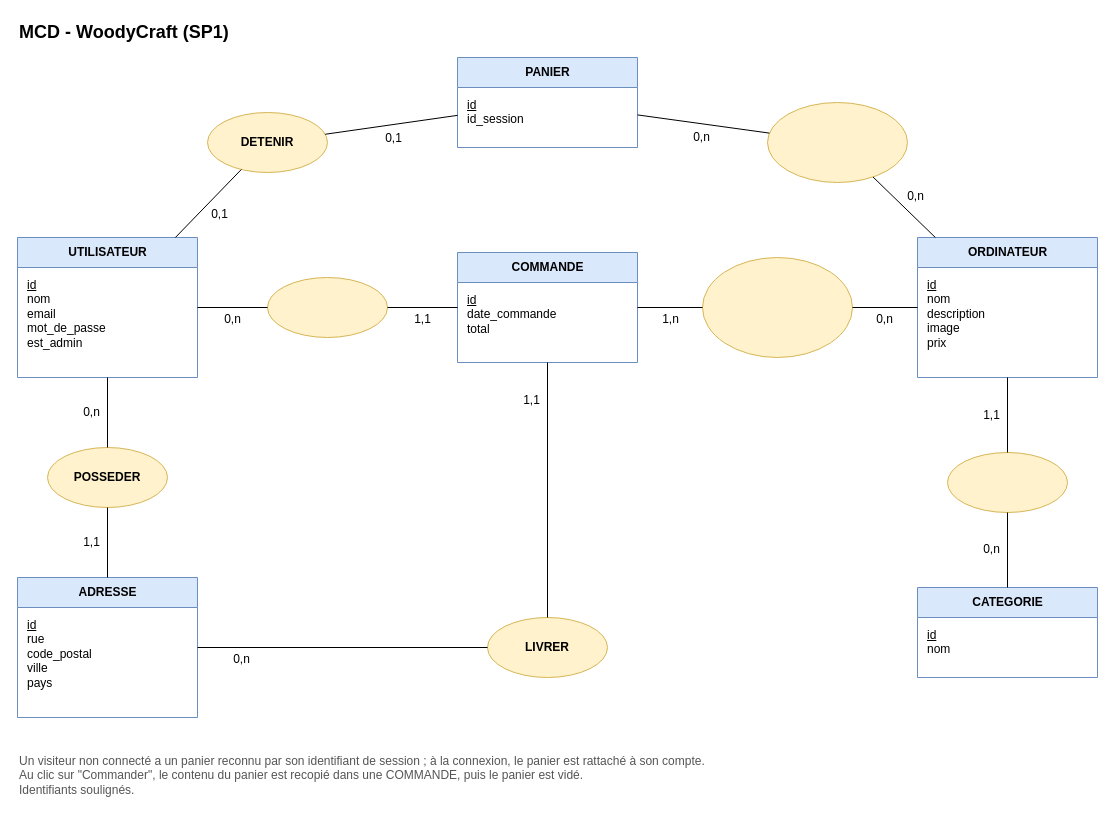
Image size: 1115x824. Some labels were removed from this diagram. The centre of each missing label's shape, as x and y in pixels:
AJOUTER quantité: [837,142]
APPARTENIR: [1007,482]
CONTENIR quantité prix_unitaire: [777,307]
PASSER: [327,307]
